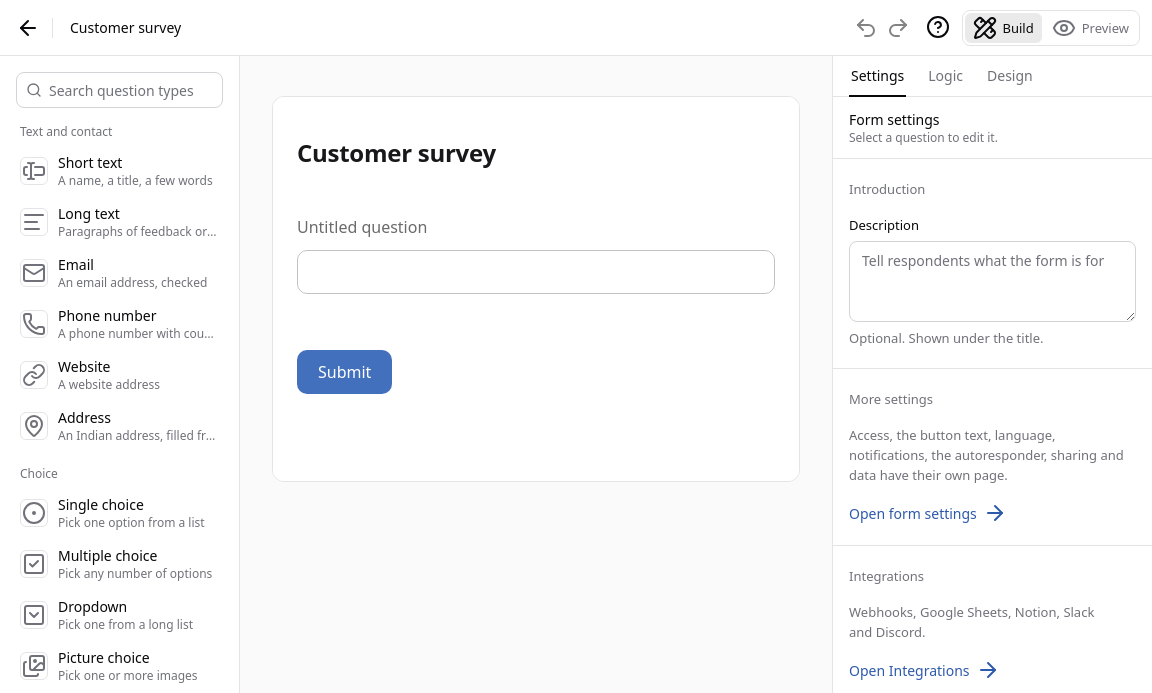
it: EditorLayout › edits the description, and links to the rest of the settings
In the text box labelled "Description": (992,282) [849,241,1136,322], type "Tell us how we did"
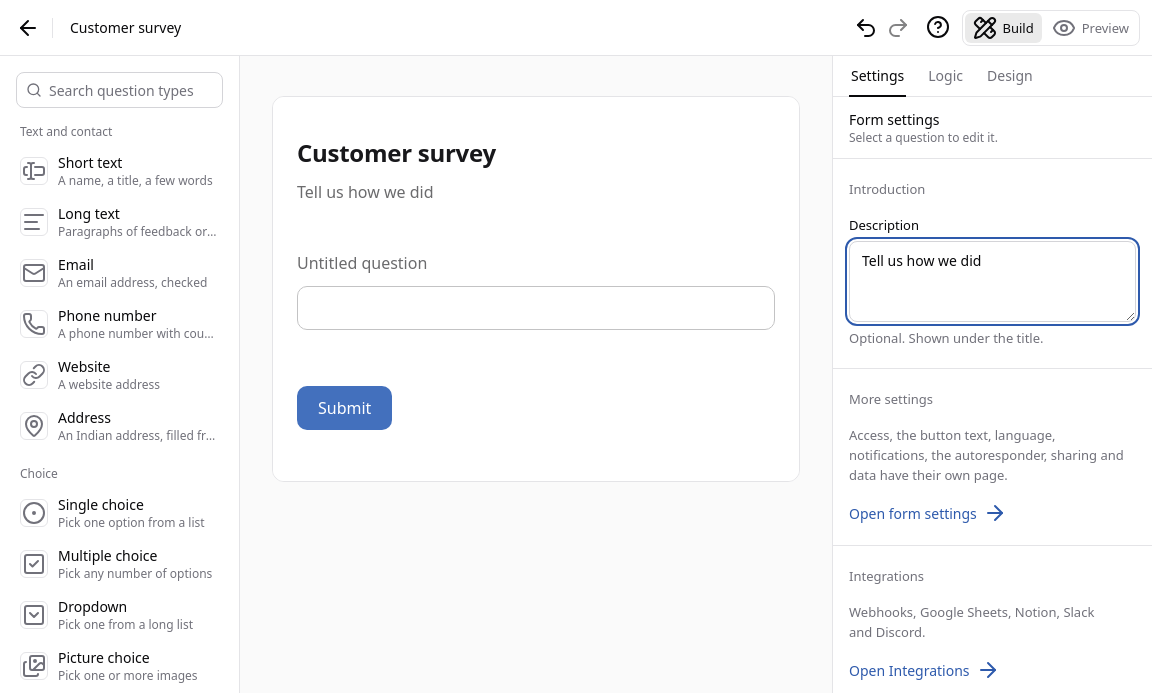
Expected: the text "Tell us how we did" is shown, [297,181,434,203]
